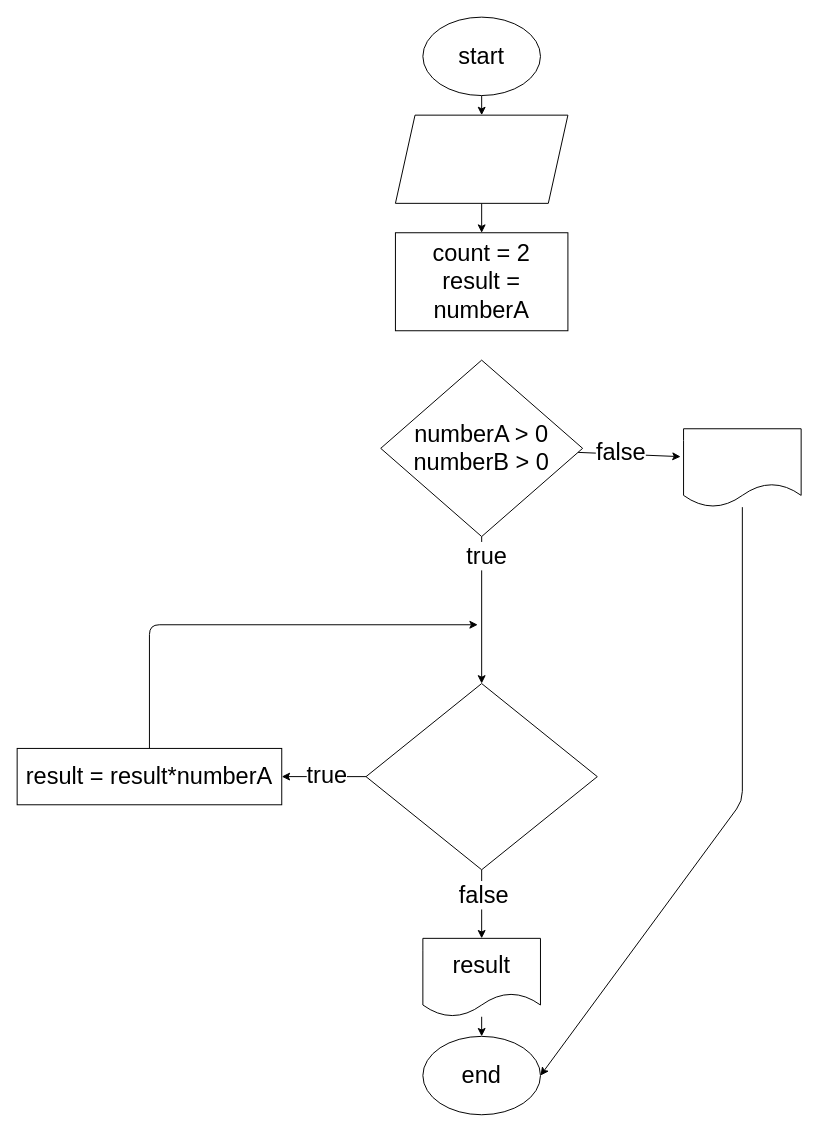
This 818x1132 diagram has some shape labels left out. The box of each missing label's shape, as (x1, y1, x2, y2) in pixels:
count <=numberB: (365, 683, 597, 870)
error: (683, 428, 801, 507)
numberA numberB: (394, 114, 568, 203)
